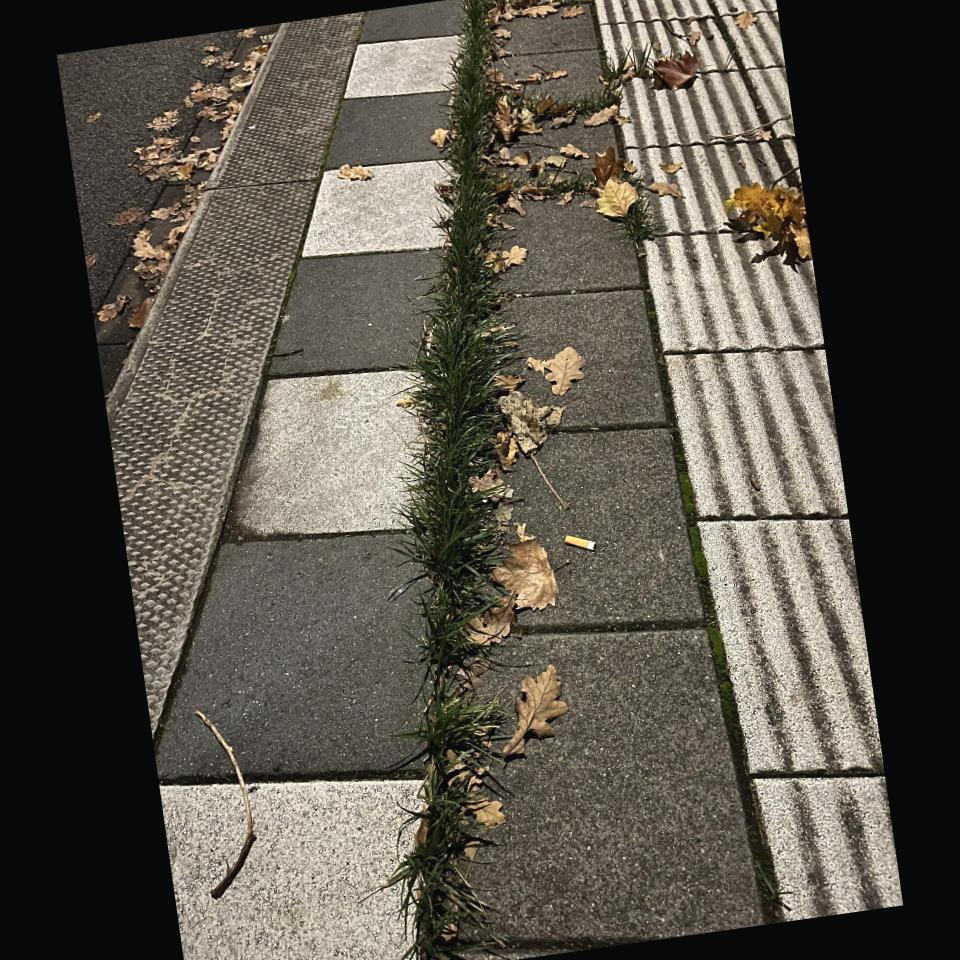weed: (401, 13, 497, 960)
